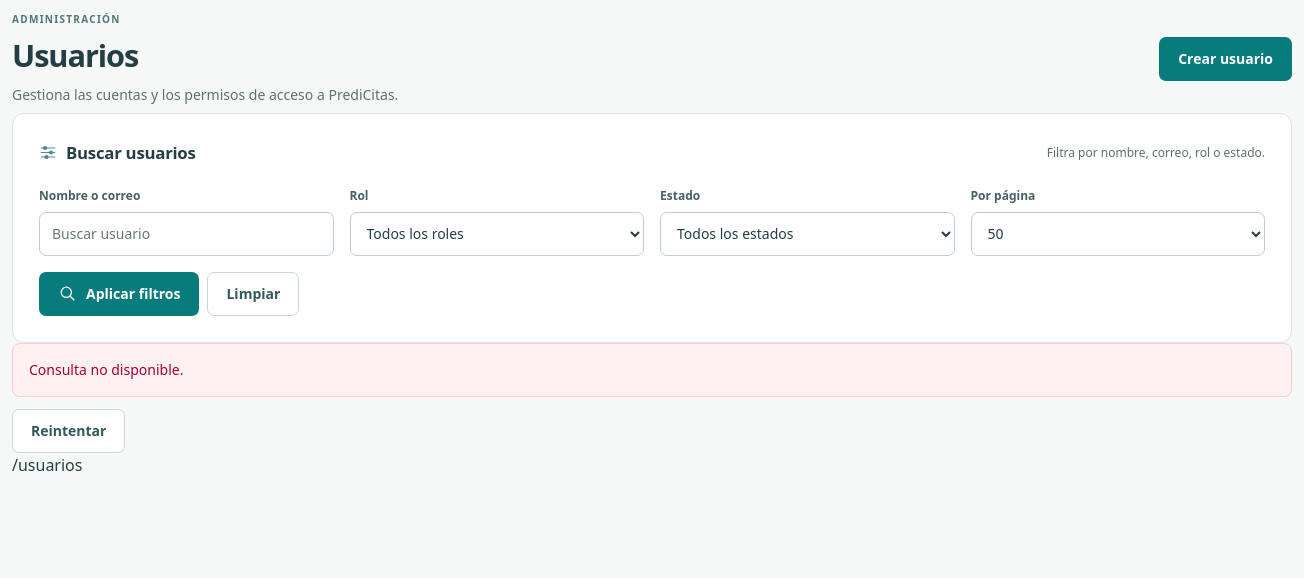
it: Usuarios: acceso, consulta y filtros › presenta un error y permite reintentar
Expected: the message reads "Consulta no disponible.", [29, 360, 183, 379]
What coordinates should you click on to do the following:
click the button "Reintentar"
I would click on:
 (69, 431)
Its box is [12, 409, 125, 453].
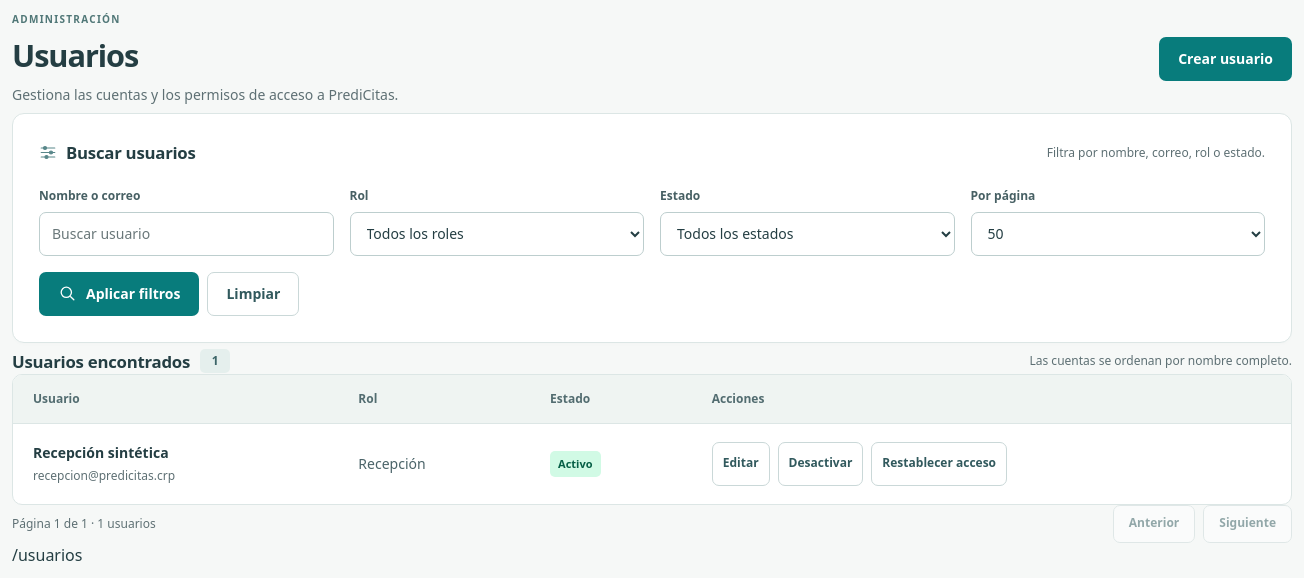
Now the table is shown, box [13, 375, 1291, 504]
